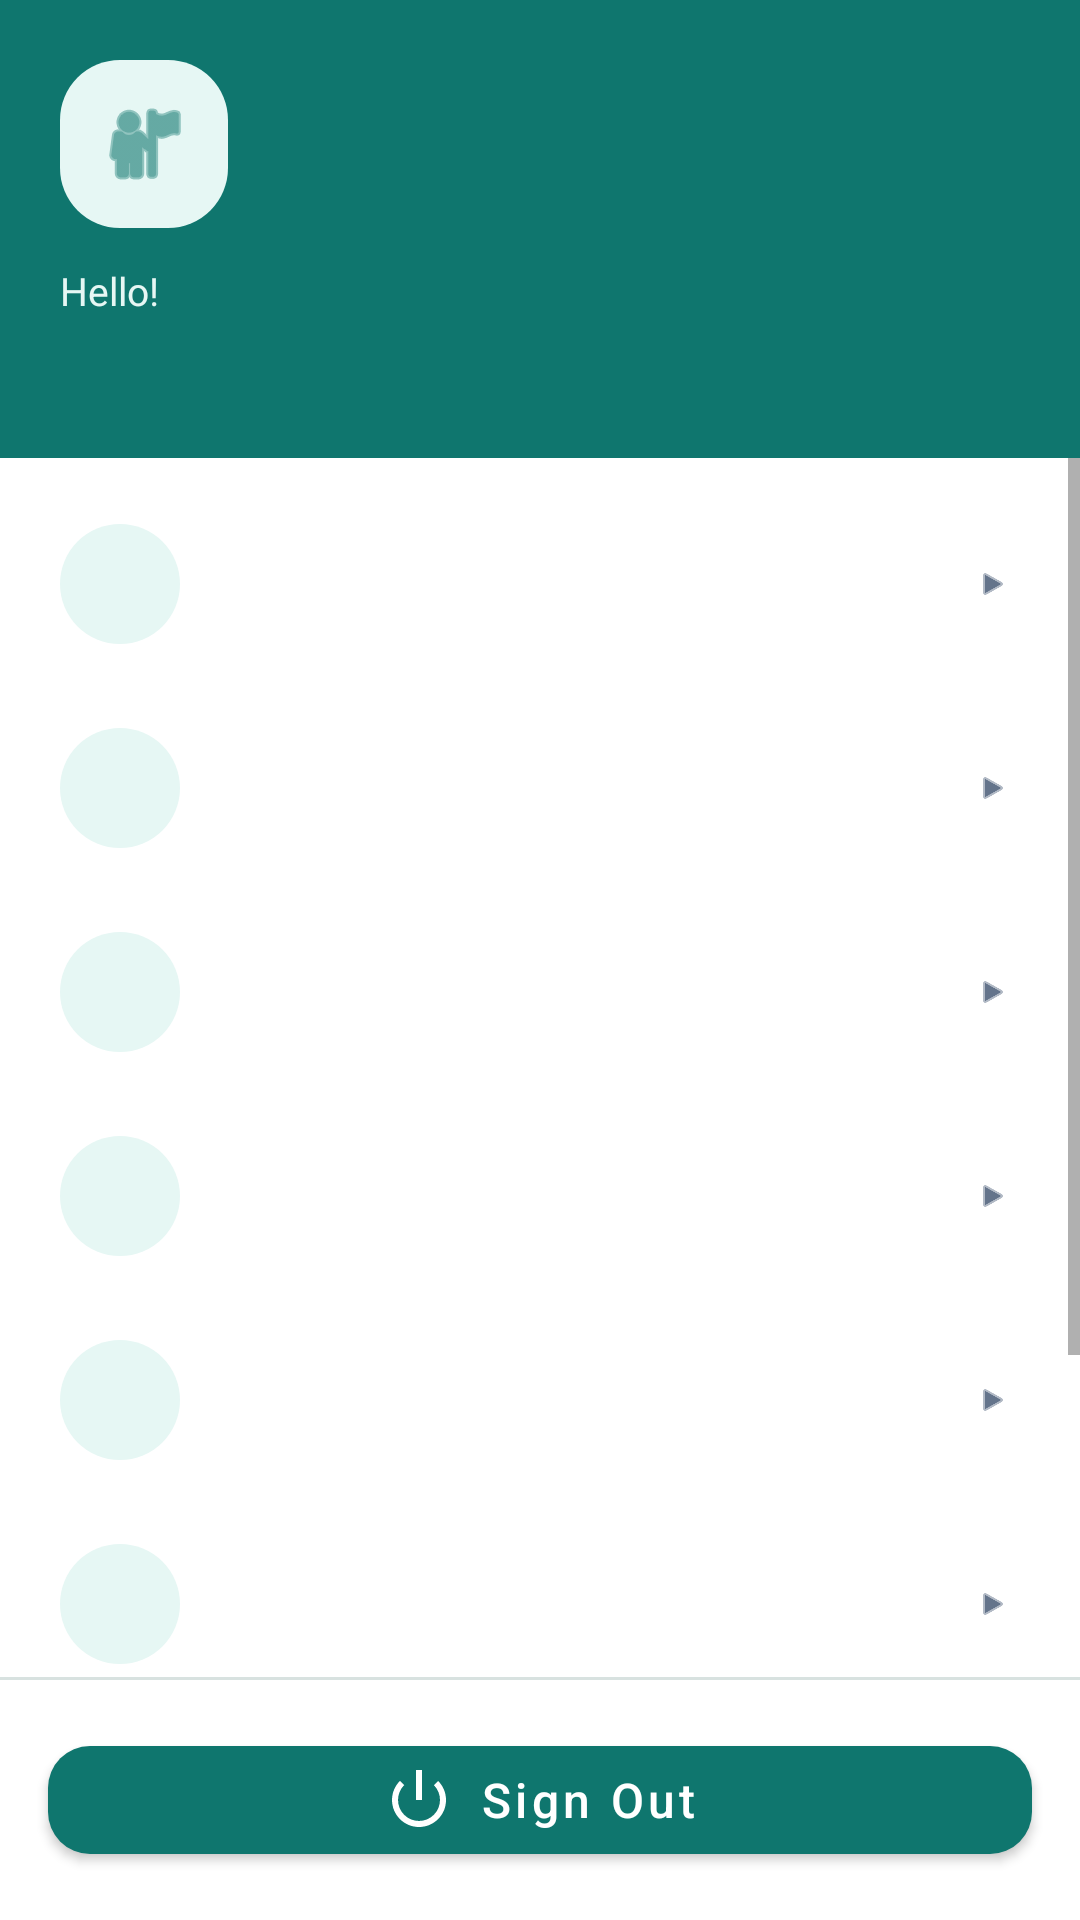

Screen size 1080px×1920px. Icon name, then its box in pixels as [x1,y1,x2,y2]:
myplaces: [60,60,228,228]
